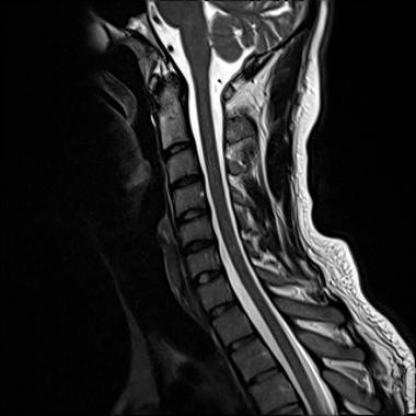Degenerative Disc Diseaserotation: (180, 237, 219, 255)
Disc Bulgerotation: (180, 237, 219, 255)
